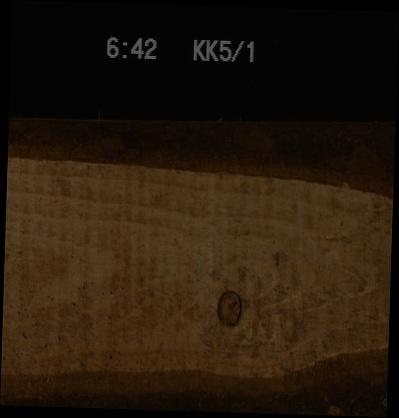dry_knot: (215, 288, 242, 326)
wave: (7, 114, 394, 190), (0, 338, 387, 411)
